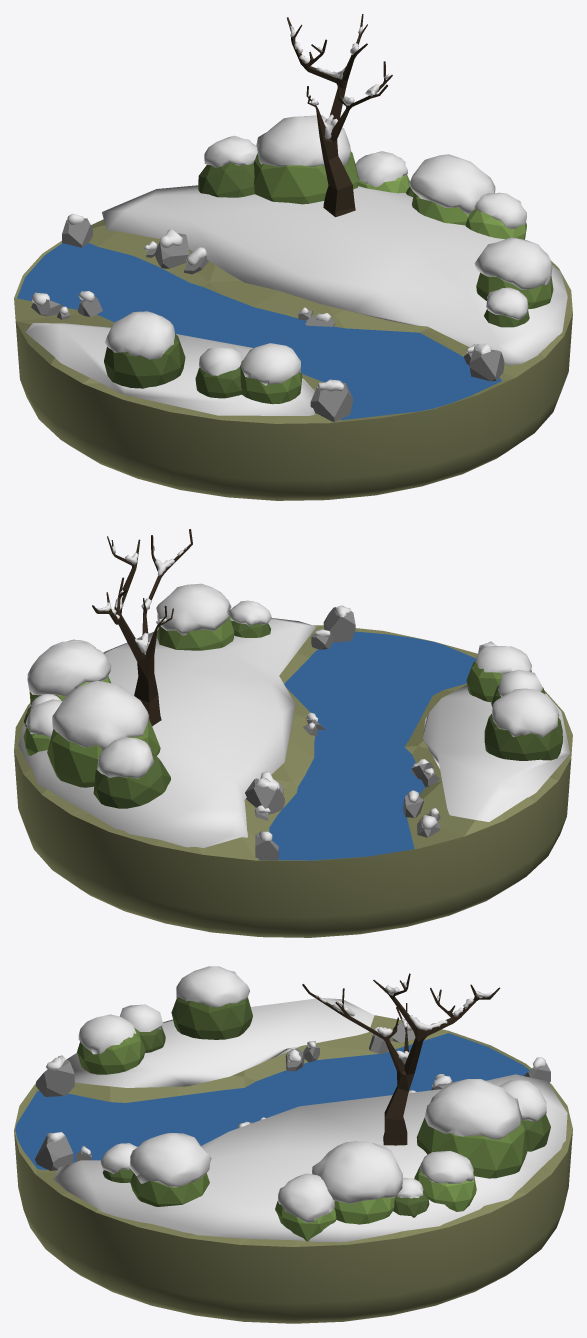
File: WinterV2.glb
The picture shows the model from 3 angles, top to bottom: view 1: azimuth 30°, elevation 25°; view 2: azimuth 150°, elevation 25°; view 3: azimuth 270°, elevation 25°; orthographic projection.
Parts seen in each view (by area): view 1: Ground-winter.001, SnowLeft, River_plane.001, SnowRight, Big tree.002, SnowOnBush.007, SnowOnBush.005, Bush2.004, SnowOnBush, Bush2.007, SnowOnBush1, SnowOnBush.002 (+17 smaller); view 2: Ground-winter.001, SnowLeft, River_plane.001, SnowRight, SnowOnBush.005, SnowOnBush.007, Big tree.002, SnowOnBush, SnowOnBush1, Bush2.004, Bush1.001, Bush2.007 (+12 smaller); view 3: Ground-winter.001, SnowLeft, River_plane.001, SnowRight, SnowOnBush.005, SnowOnBush.007, Big tree.002, Bush2.004, SnowOnBush, Bush2.007, SnowOnBush1, SnowOnBush.006 (+17 smaller).
Part boxes in pixels (box(x1,y1,x2,y2)): Ground-winter.001: box(14, 219, 572, 500); SnowLeft: box(102, 185, 567, 365); River_plane.001: box(17, 243, 501, 420); SnowRight: box(25, 323, 314, 415); Big tree.002: box(287, 14, 392, 217); SnowOnBush.007: box(409, 154, 495, 214); SnowOnBush.005: box(256, 115, 350, 166); Bush2.004: box(253, 151, 358, 204); SnowOnBush: box(474, 237, 552, 289); Bush2.007: box(104, 334, 185, 388); SnowOnBush1: box(105, 311, 174, 359); SnowOnBush.002: box(241, 343, 300, 385); Ground-winter.001: box(14, 625, 572, 937); SnowLeft: box(18, 618, 316, 847); River_plane.001: box(259, 631, 475, 860); SnowRight: box(423, 685, 570, 821); SnowOnBush.005: box(52, 681, 149, 748); SnowOnBush.007: box(27, 641, 111, 695); Big tree.002: box(92, 529, 192, 726); SnowOnBush: box(156, 583, 231, 635); SnowOnBush1: box(491, 688, 559, 737); Bush2.004: box(47, 718, 160, 787); Bush1.001: box(93, 753, 170, 808); Bush2.007: box(484, 714, 562, 760); Ground-winter.001: box(14, 1015, 572, 1323); SnowLeft: box(53, 1074, 567, 1242); River_plane.001: box(15, 1033, 529, 1169); SnowRight: box(66, 998, 374, 1087); SnowOnBush.005: box(424, 1079, 522, 1139); SnowOnBush.007: box(312, 1141, 402, 1203); Big tree.002: box(302, 973, 500, 1145); Bush2.004: box(416, 1117, 527, 1178); SnowOnBush: box(130, 1133, 211, 1187); Bush2.007: box(171, 997, 252, 1039); SnowOnBush1: box(176, 966, 249, 1007); SnowOnBush.006: box(277, 1173, 334, 1222).
Size of the model in its own units: 2.17 by 1.34 by 2.17.
